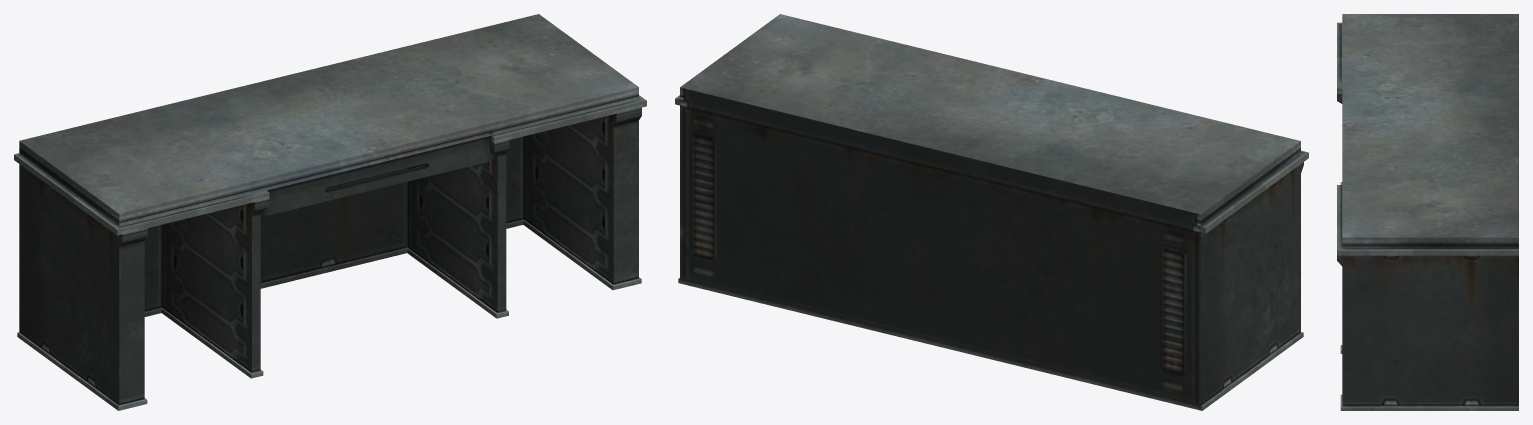
Rendered from desk_work_cabin_no_top.dae.
The picture shows the model from 3 angles, left to right: view 1: azimuth 30°, elevation 25°; view 2: azimuth 150°, elevation 25°; view 3: azimuth 270°, elevation 25°; orthographic projection. The views are drawn at different scales.
Visible parts, largest first — view 1: desk; view 2: desk; view 3: desk.
Part boxes in pixels (<box>): desk: <box>14,14,646,410</box>; desk: <box>675,14,1308,410</box>; desk: <box>1337,14,1518,410</box>.
Size of the model in its own units: 306 by 108 by 103.
